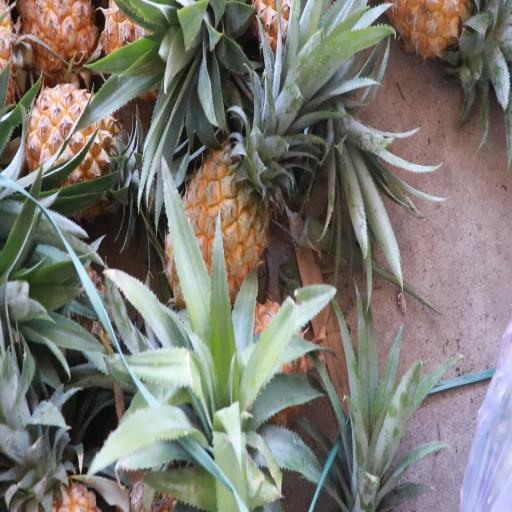Pineapple - v8 v1: (158, 135, 273, 329), (22, 73, 129, 224), (14, 0, 101, 85)
